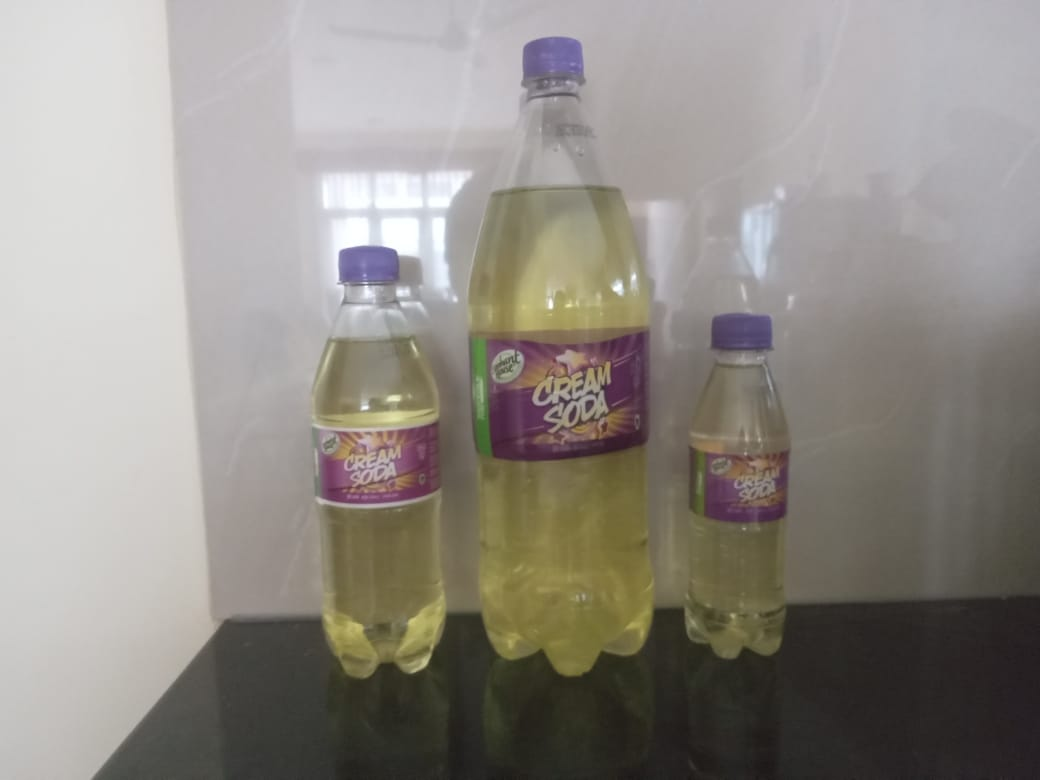L: (453, 33, 663, 688)
S: (304, 242, 456, 690)
Xs: (684, 311, 798, 668)
